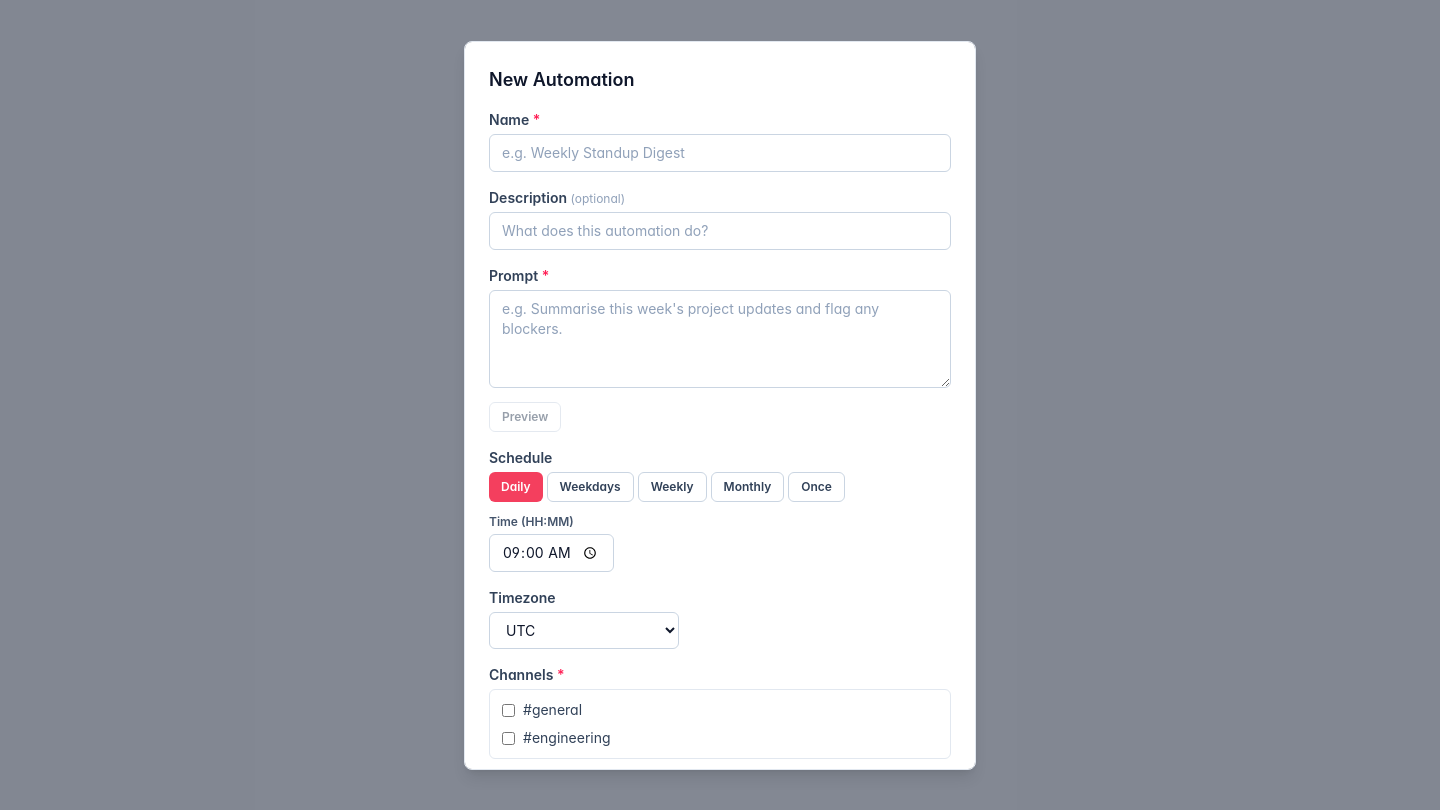
Test: AddAutomationModal › shows validation error when no channel is selected
Type "Test Automation" into the field labelled "Name *".
click(720, 152); type("Test Automation")  # box [489,134,951,172]
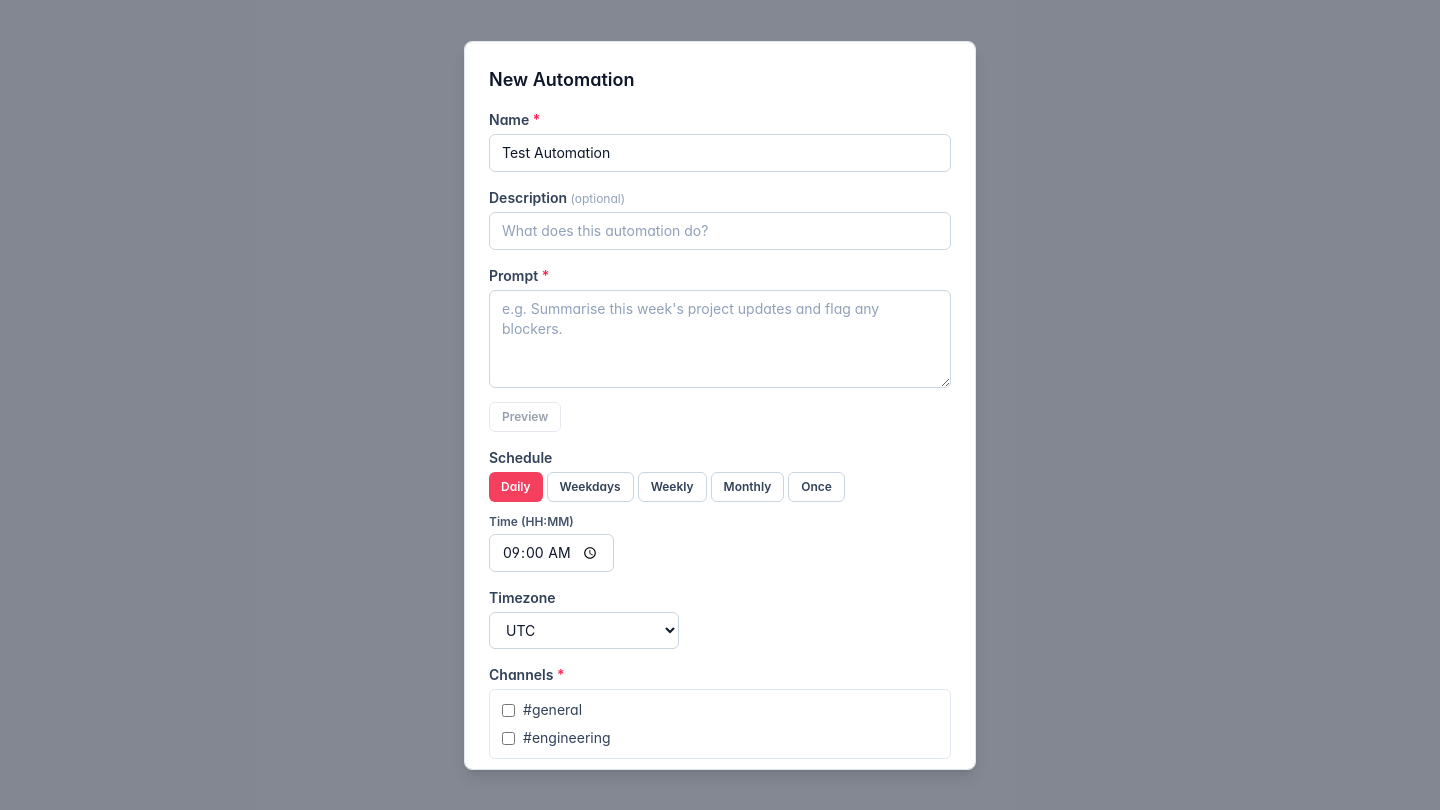
Replace the text in the text box labelled "Prompt *" with "Some prompt" at (720, 338), box [489,290,951,388]
(page scrolled)
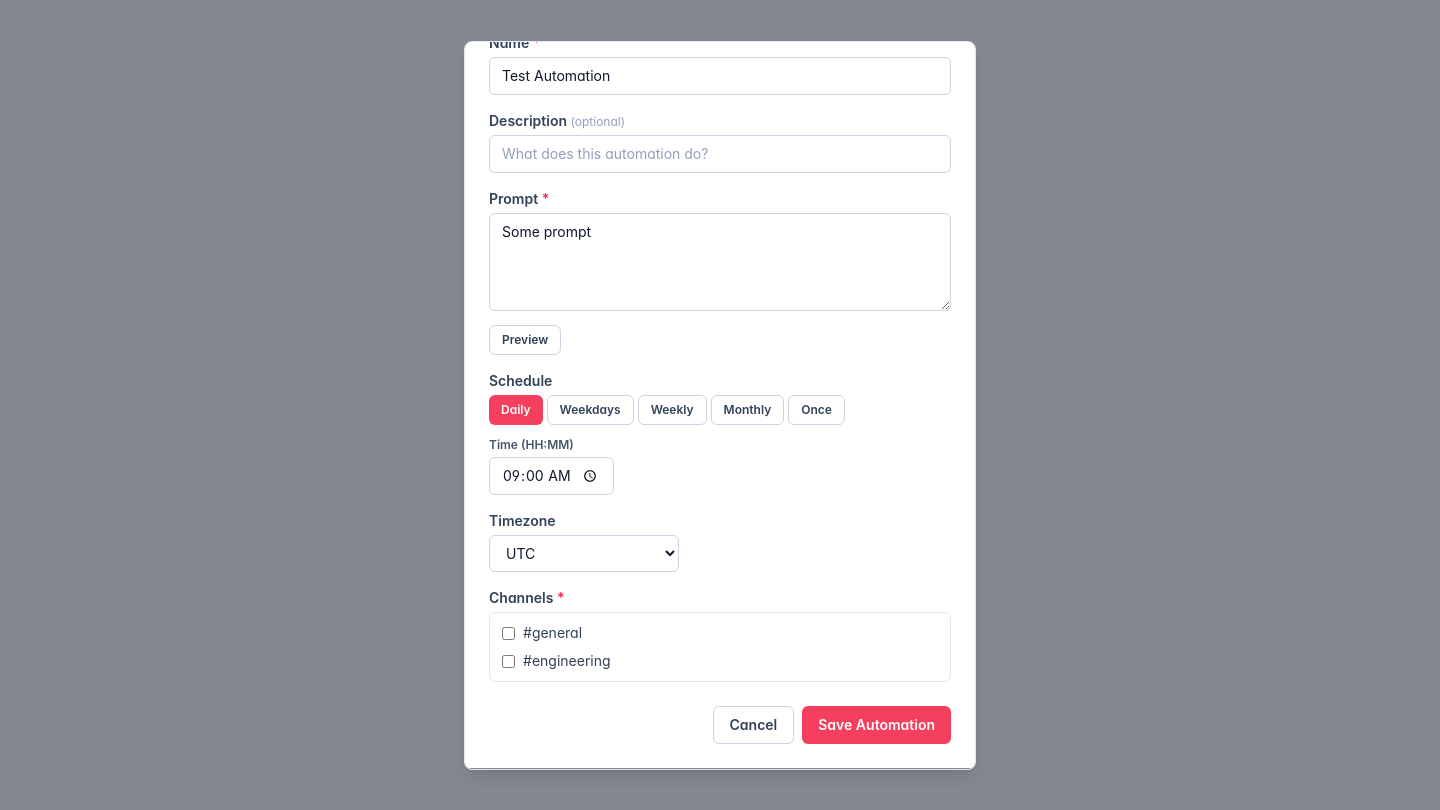
Click the button "Save Automation".
click(877, 725)  # box [802,706,951,744]
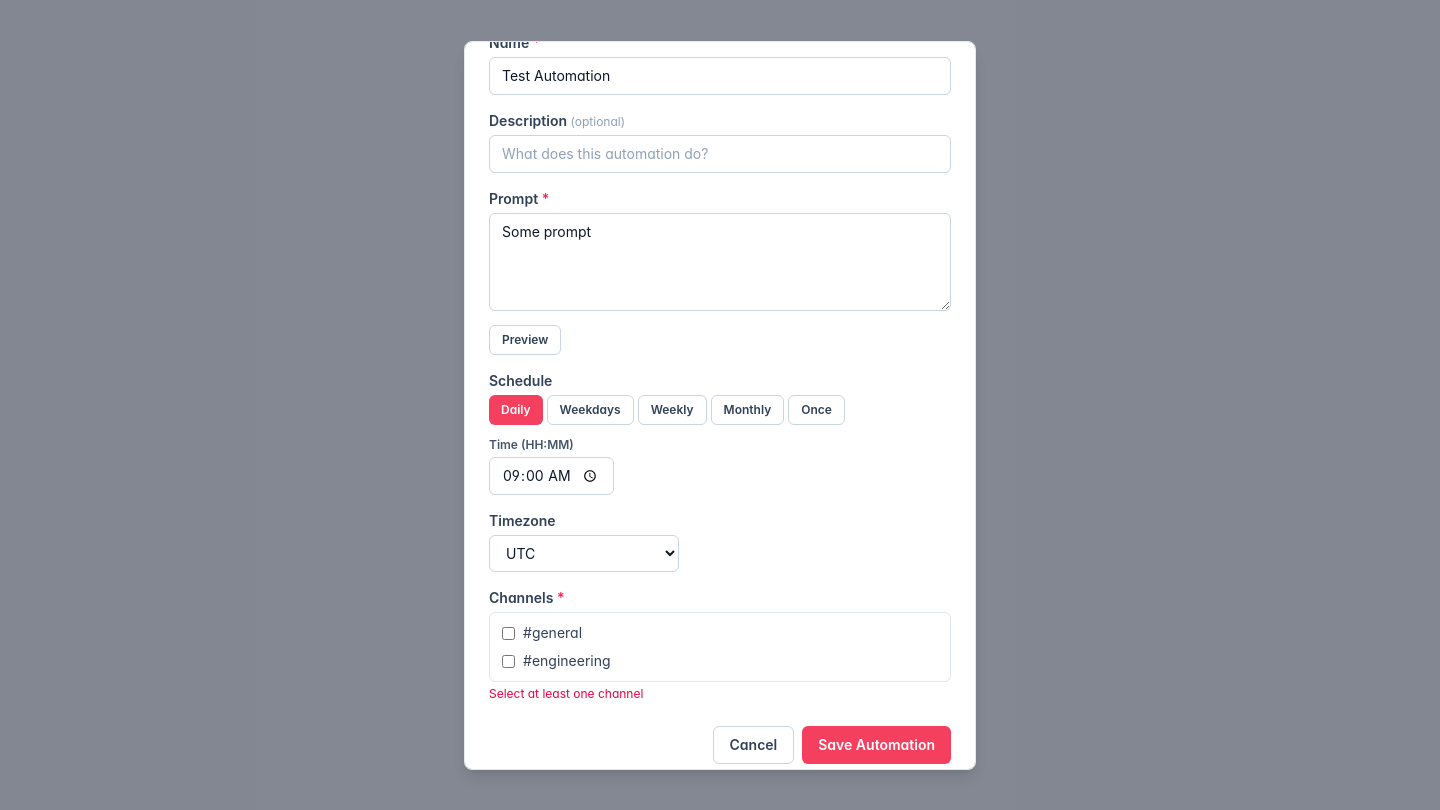
Now the text "Select at least one channel" is shown, box [489,686,643,701]
